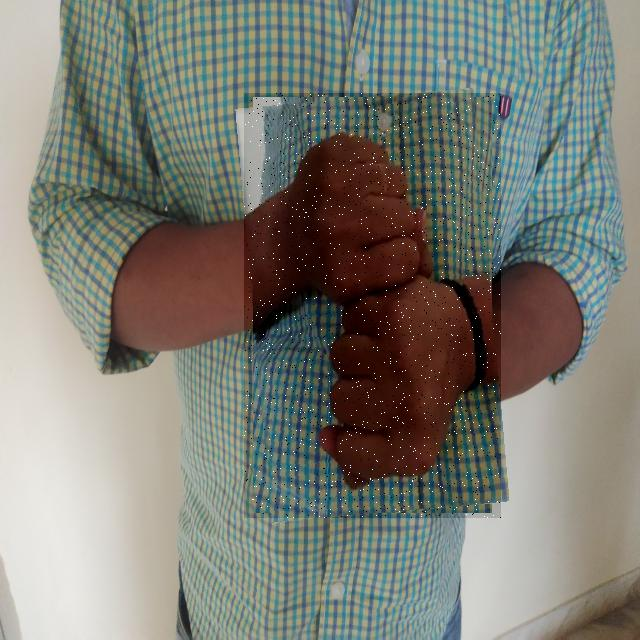G: (244, 93, 501, 518)
